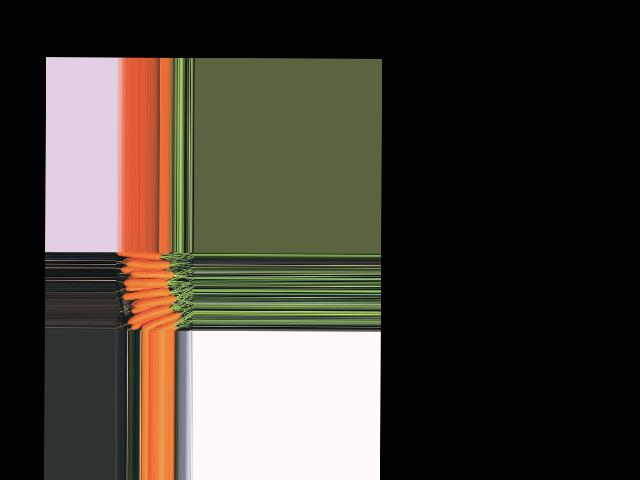carrot: (137, 316, 180, 324)
